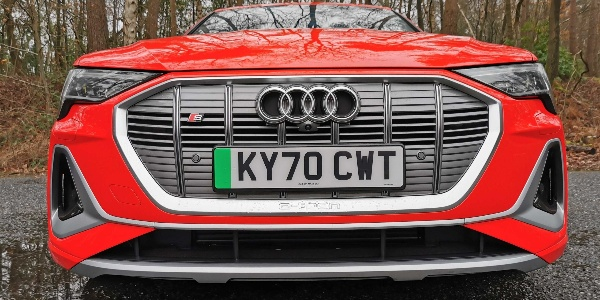licence: (214, 148, 404, 191)
